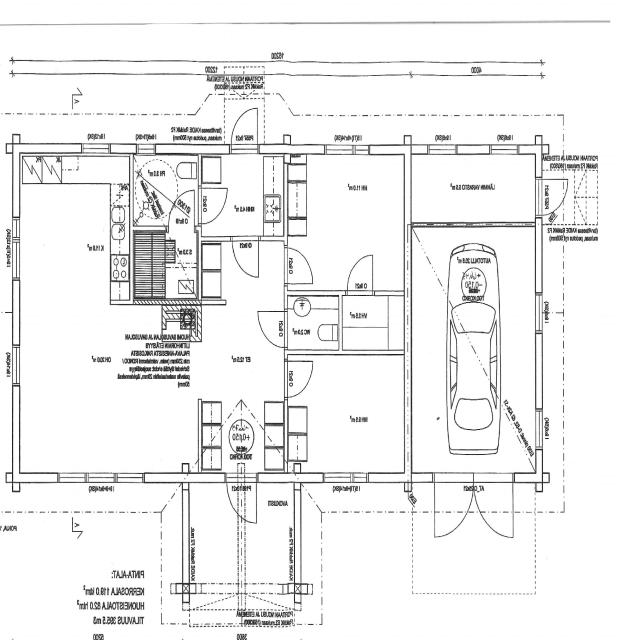door: (474, 473, 513, 538), (435, 473, 474, 538), (227, 473, 256, 519), (231, 106, 258, 154), (232, 236, 259, 278), (284, 248, 313, 284), (284, 361, 312, 397), (169, 190, 194, 230), (536, 180, 564, 215), (260, 311, 288, 346), (199, 188, 226, 224), (348, 255, 372, 295)
